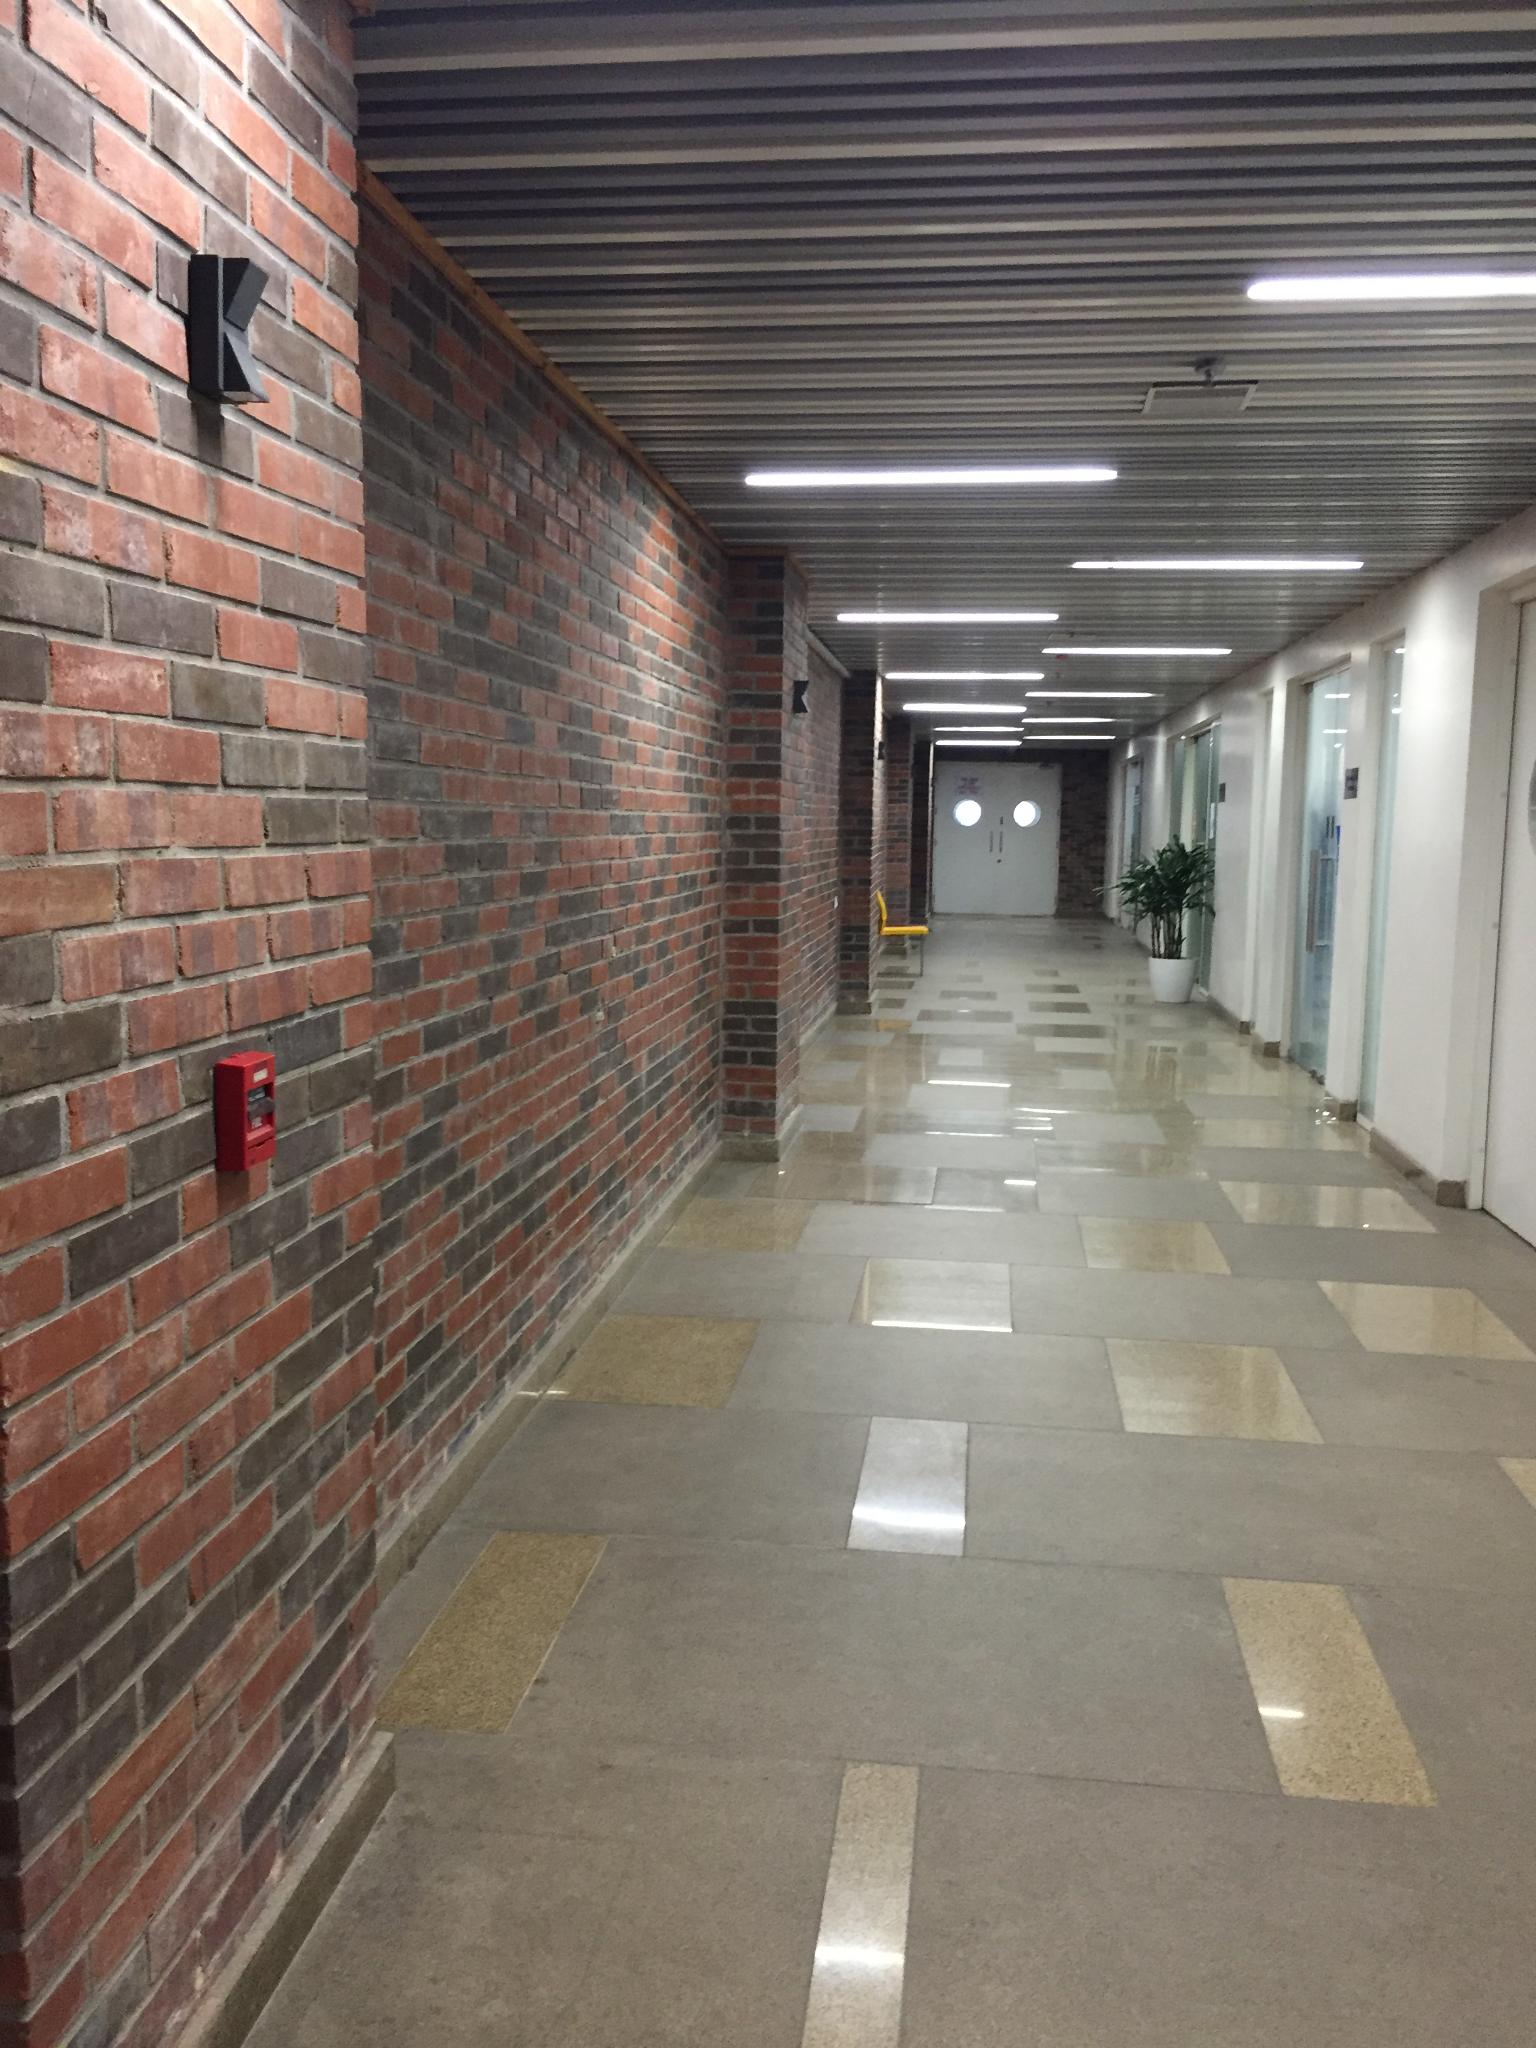chair: (871, 889, 928, 976)
